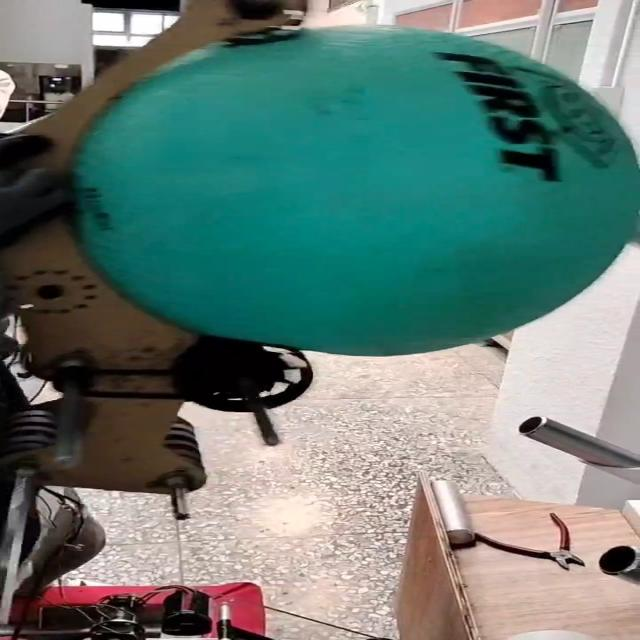ALGAE: (101, 32, 640, 364)
